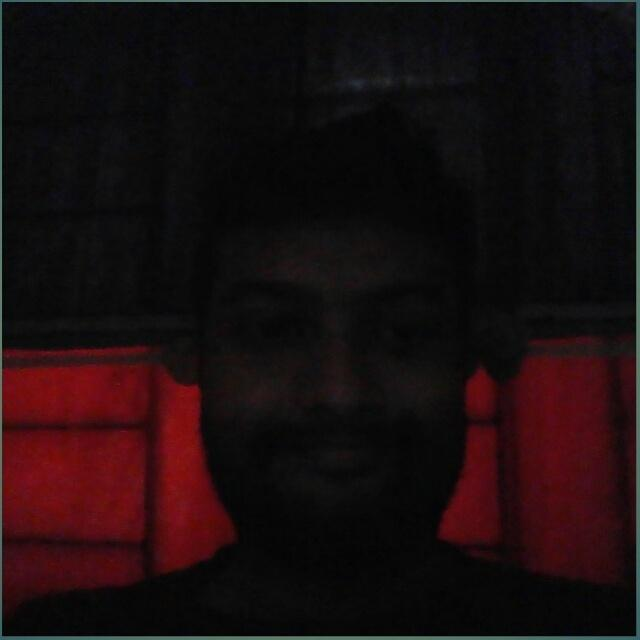Happy: (129, 157, 498, 537)
